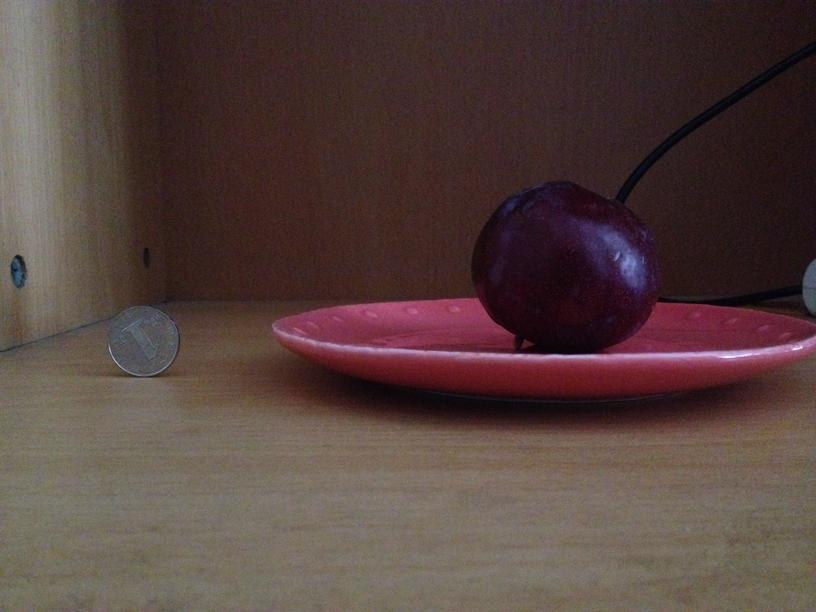coin: (102, 305, 181, 377)
plum: (467, 182, 656, 349)
